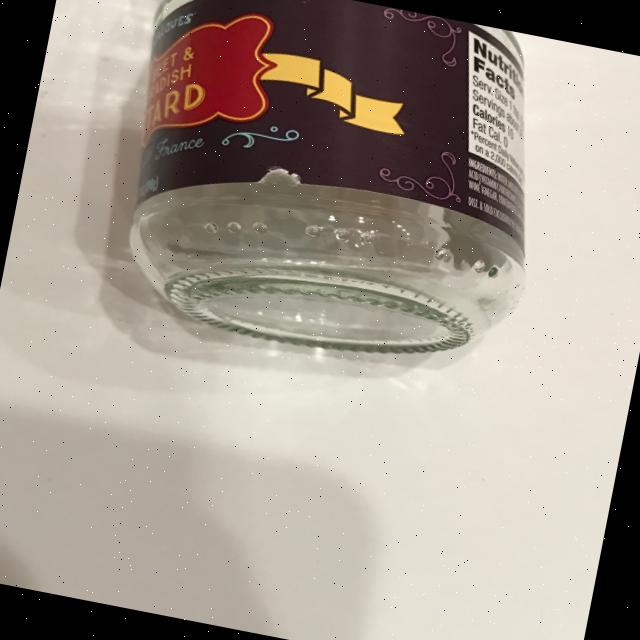glass: (98, 0, 573, 388)
